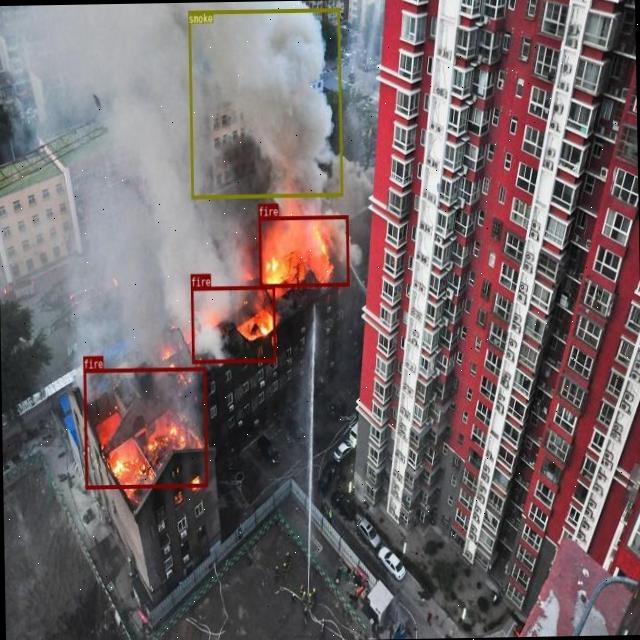fire: (83, 366, 207, 488), (190, 285, 276, 363), (258, 214, 348, 286)
smoke: (188, 8, 342, 198)
